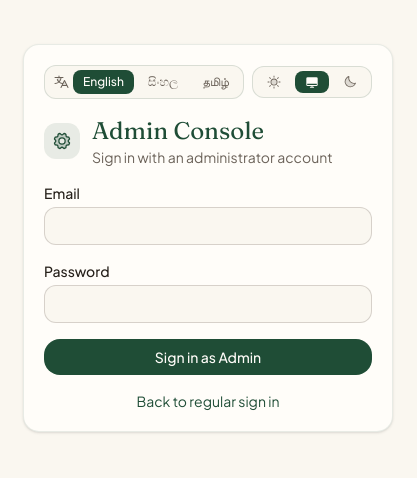
Scenario: AdminLoginPage › shows the lockout message on 429 instead of blaming the password
In the field labelled "Email": (208, 226) [44,207,372,245], type "admin@agrilink.lk"
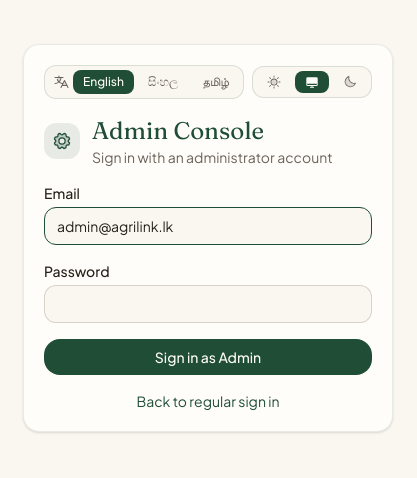
In the password field labelled "Password": (208, 304) [44,285,372,323], type "test-admin-password"
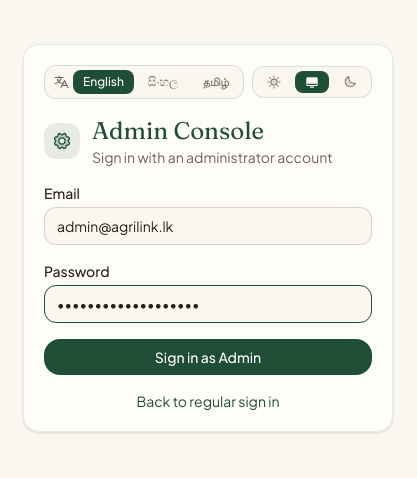
Click the button "Sign in as Admin": (208, 357) [44,339,372,375]
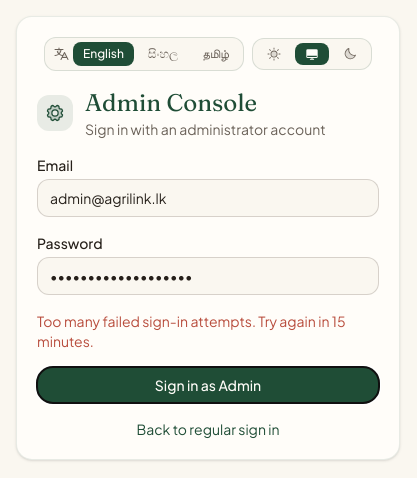
Now the text "Too many failed sign-in attempts. Try again in 15 minutes." is shown, box [37,311,379,351]
